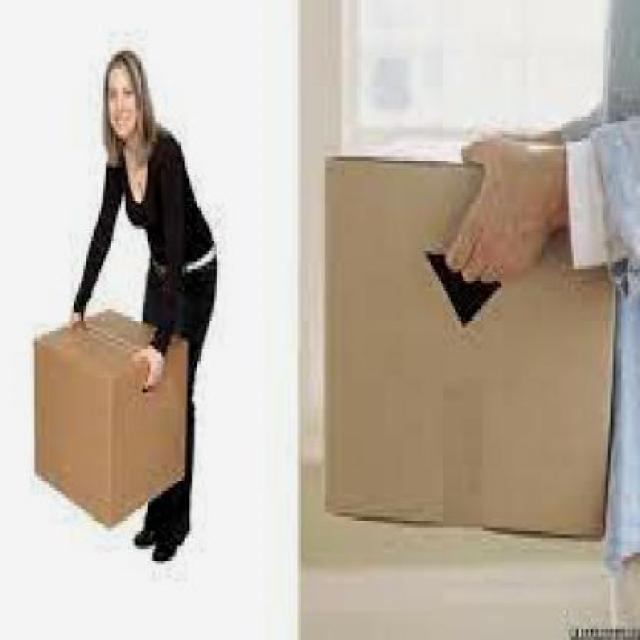box: (314, 145, 618, 550), (28, 309, 189, 528)
